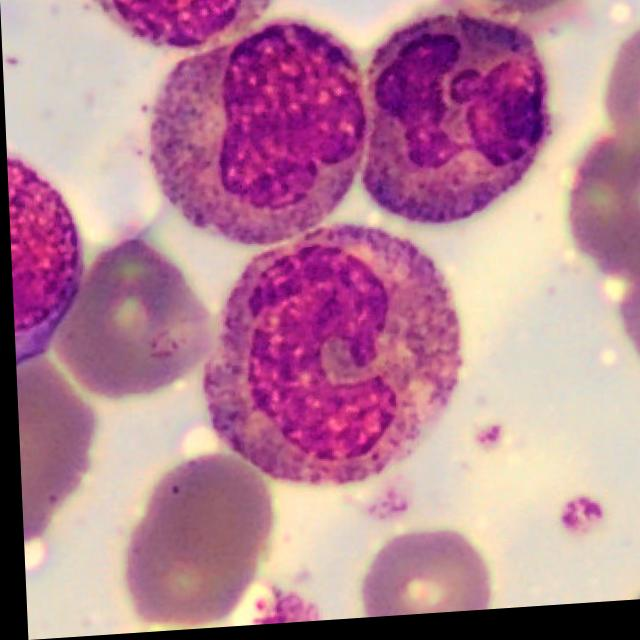Bastonete: (198, 228, 462, 495)
